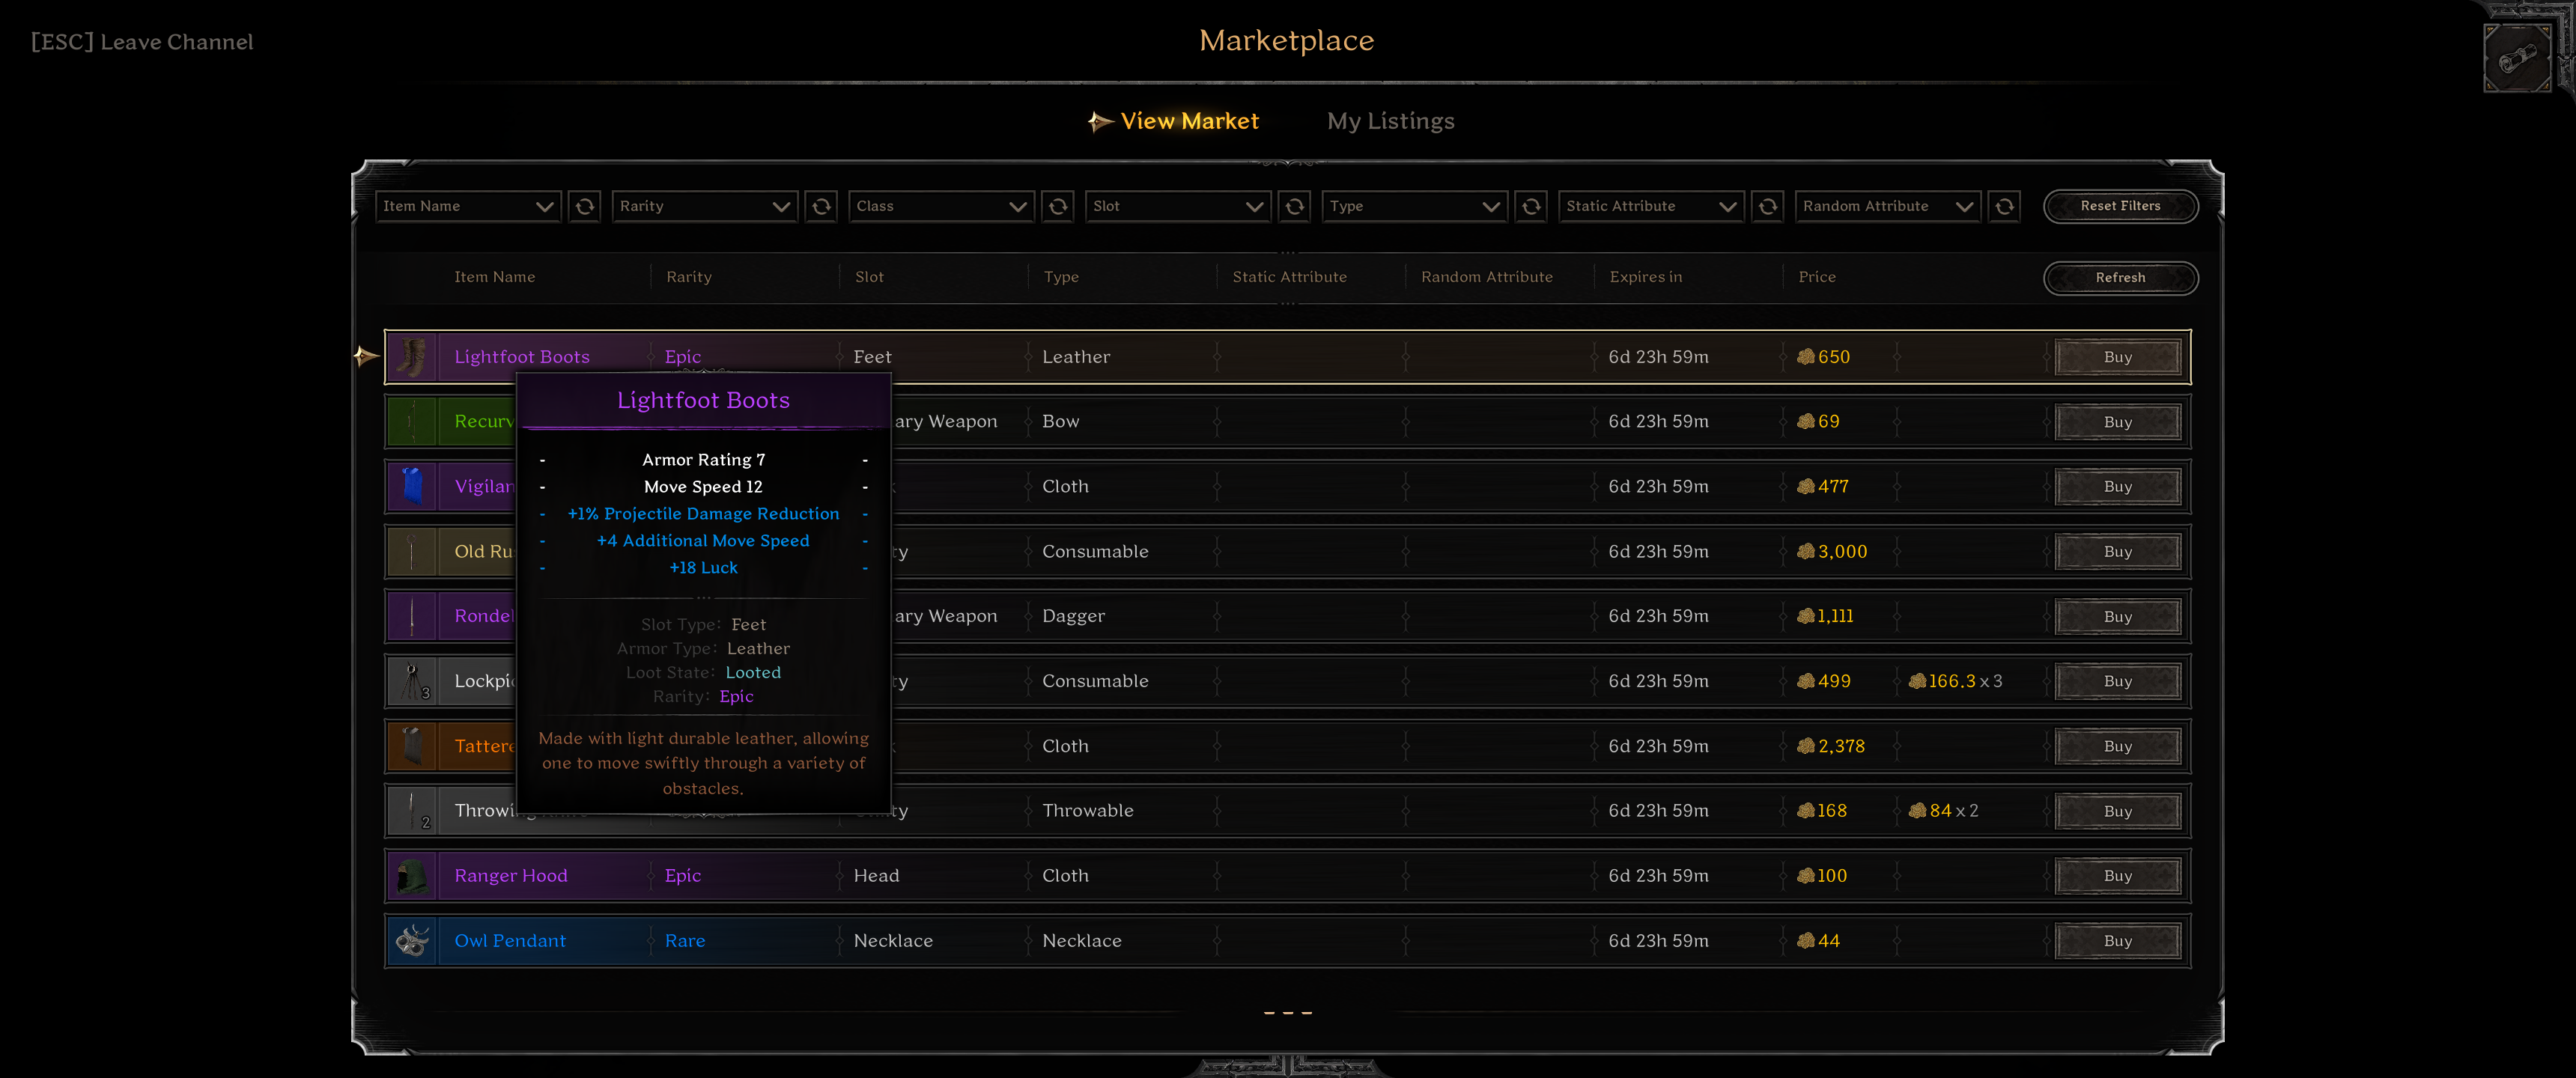Tooltip: (514, 370, 894, 813)
